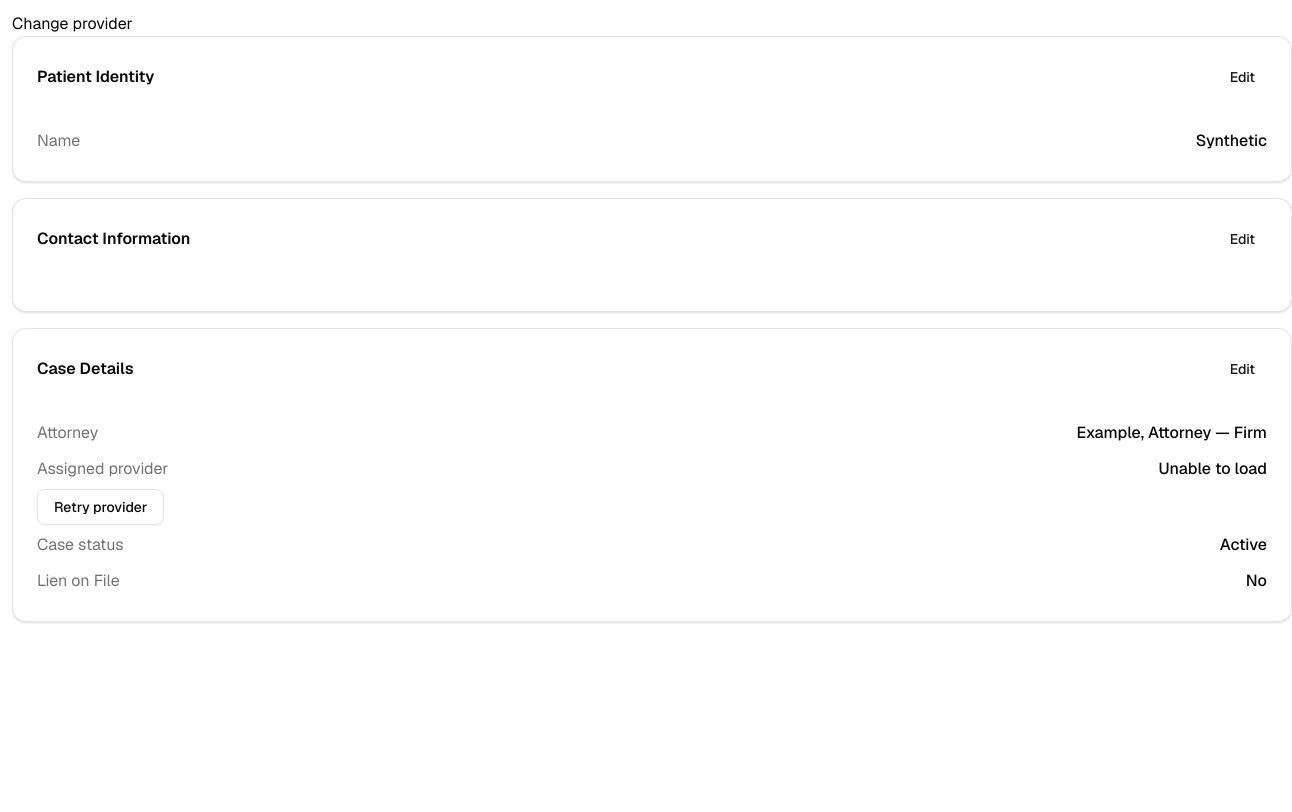
blocks readiness after reported lookup failure and retries explicitly
The image size is (1292, 812).
Click the button "Retry provider". click: [101, 507]
box: [37, 489, 164, 525]
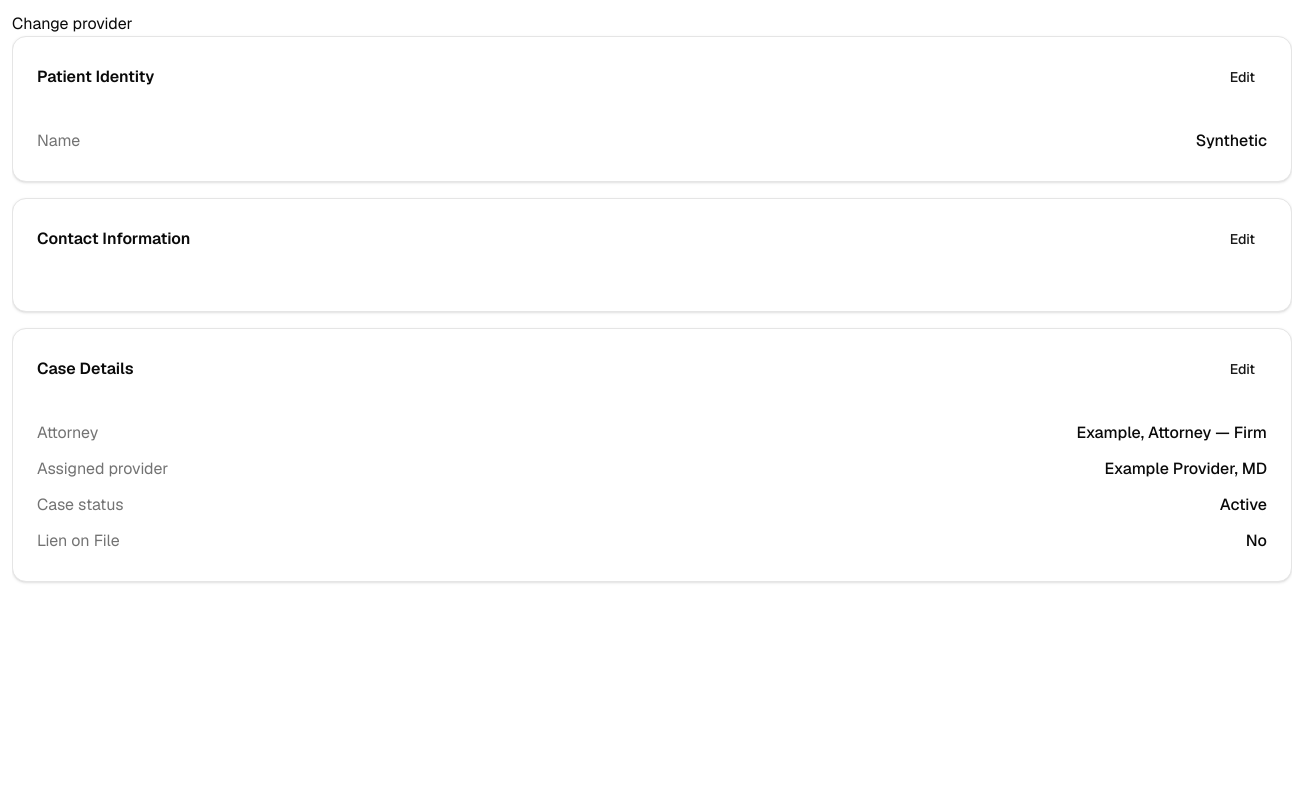
Now the text "Example Provider, MD" is shown, box [1104, 457, 1267, 481]
